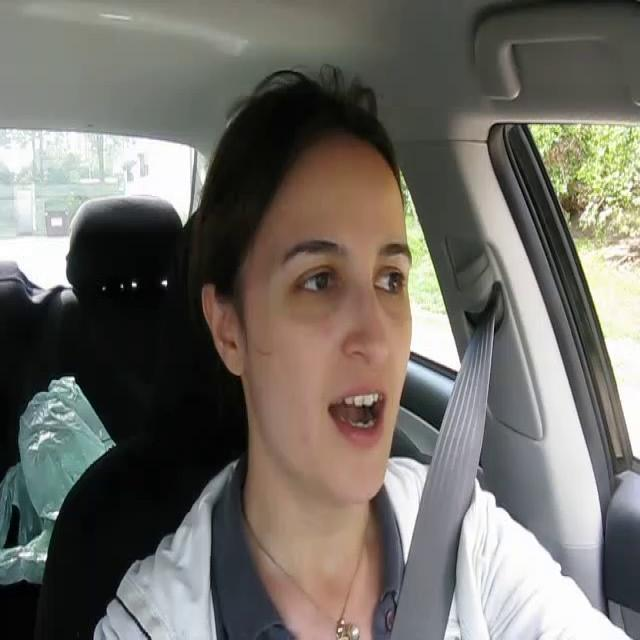open-mouth: (324, 380, 390, 450)
